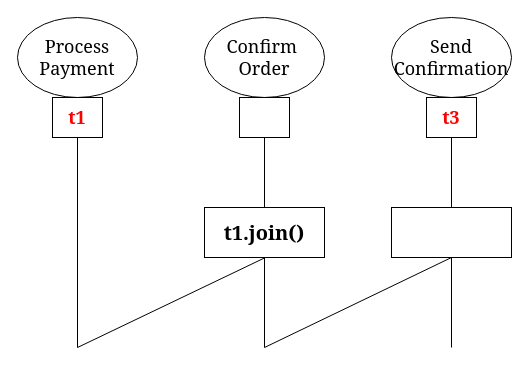
The diagram is 529 pixels wide and 366 high, and some of its shapes have lost their labels. Each missing label, with the centre of its shape:
"t2" belongs at (x=264, y=117).
"t2.join()" belongs at (x=451, y=232).
